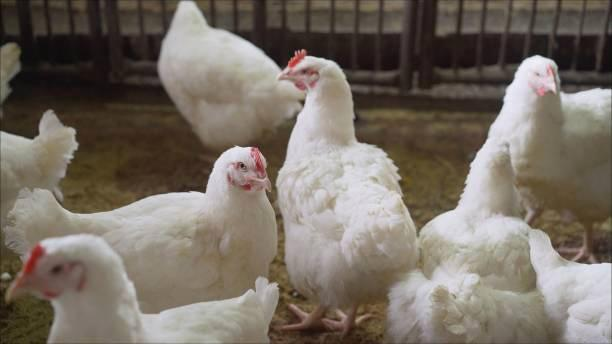Healthy: (263, 37, 421, 339), (99, 128, 289, 297)
